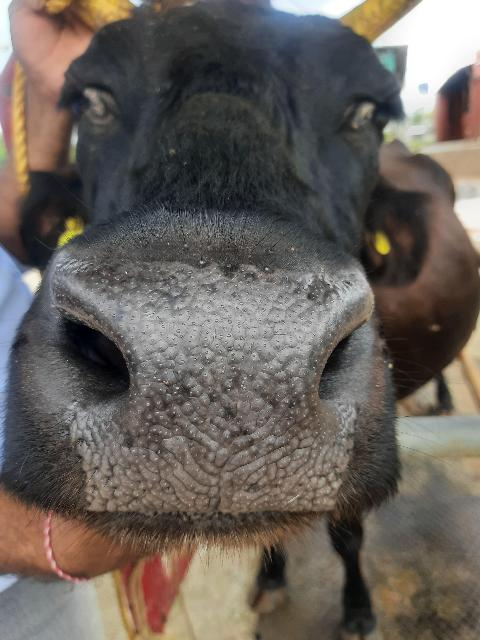Muzzle: (76, 272, 334, 516)
